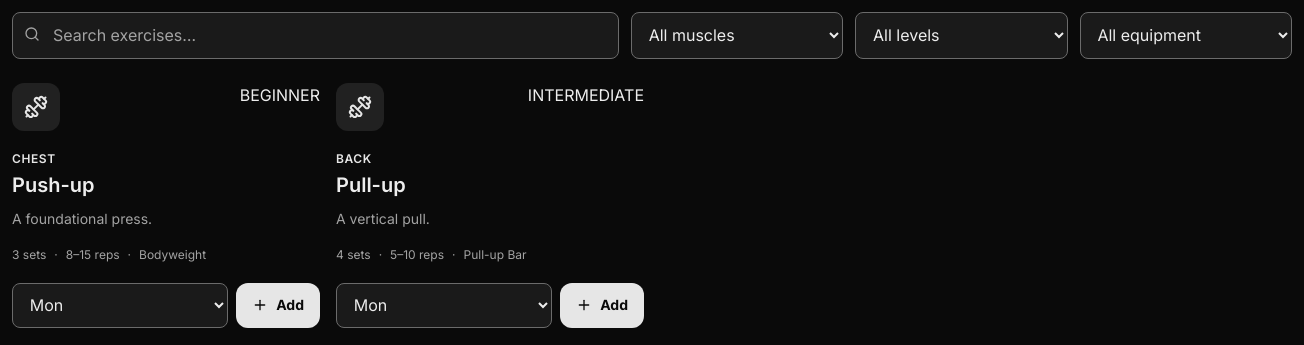
Test: ExerciseCatalog › combines search and difficulty filters
expect the heading "Push-up" is shown: met, box [12,173,94,197]
Step 1. Select "Intermediate" in the dropdown named "Difficulty" → [961, 35], box [855,12,1068,59]
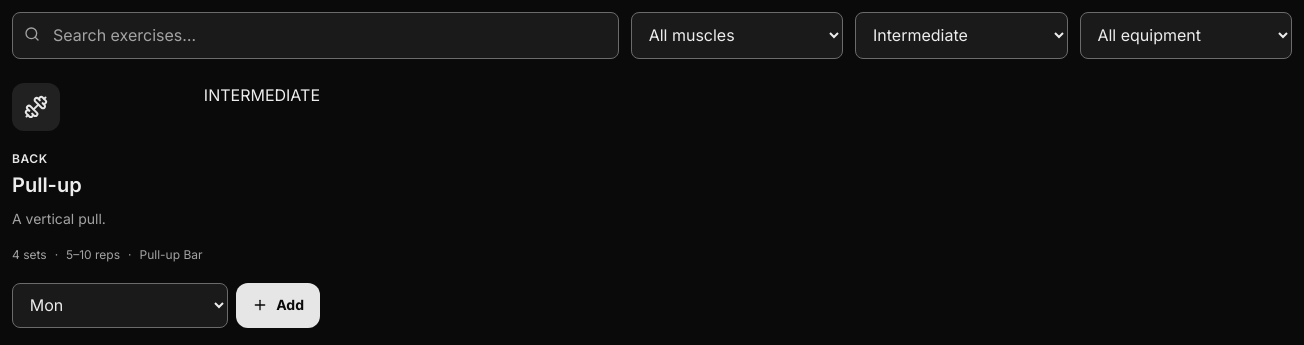
expect the heading "Pull-up" is shown: met, box [12,173,82,197]
expect the heading "Push-up" is gone: met
Step 2. Type "squat" into the field with placeholder "Search exercises…" → [315, 35], box [12,12,619,59]
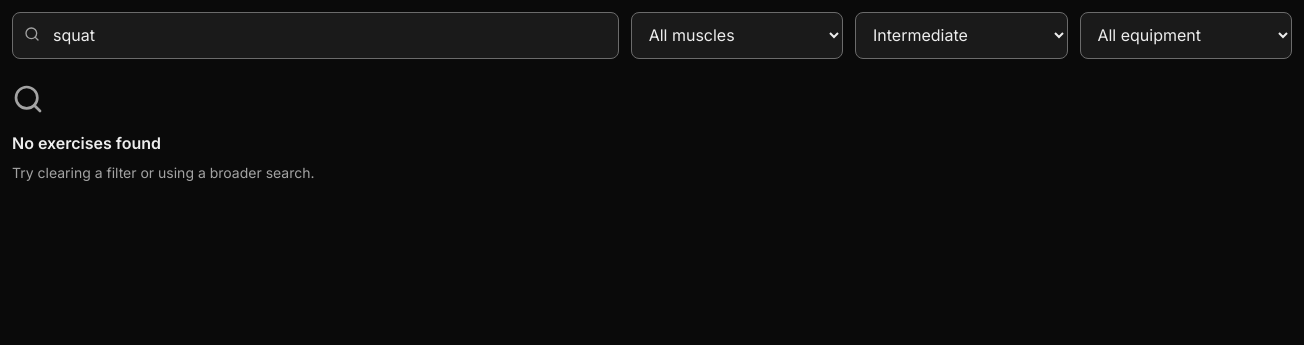
expect the heading "No exercises found" is shown: met, box [12,133,161,153]
